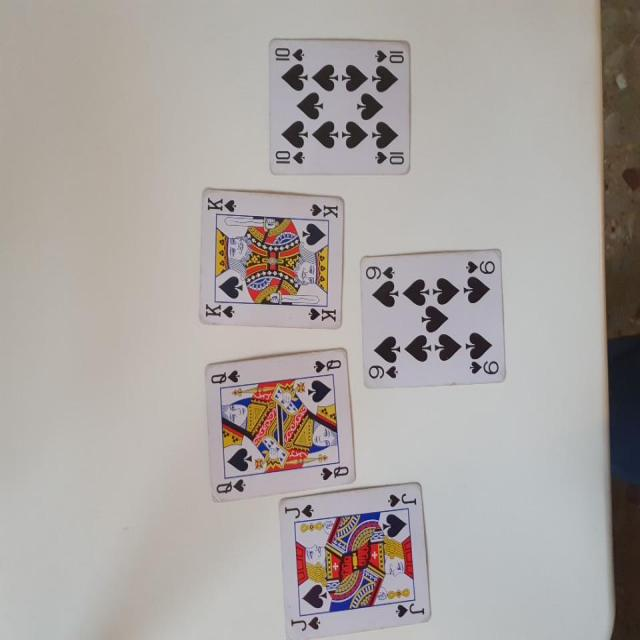10 Spades: (268, 36, 412, 177)
9 Spades: (359, 247, 513, 395)
J Spades: (272, 480, 436, 637)
K Spades: (197, 185, 350, 330)
Q Spades: (199, 343, 360, 502)
